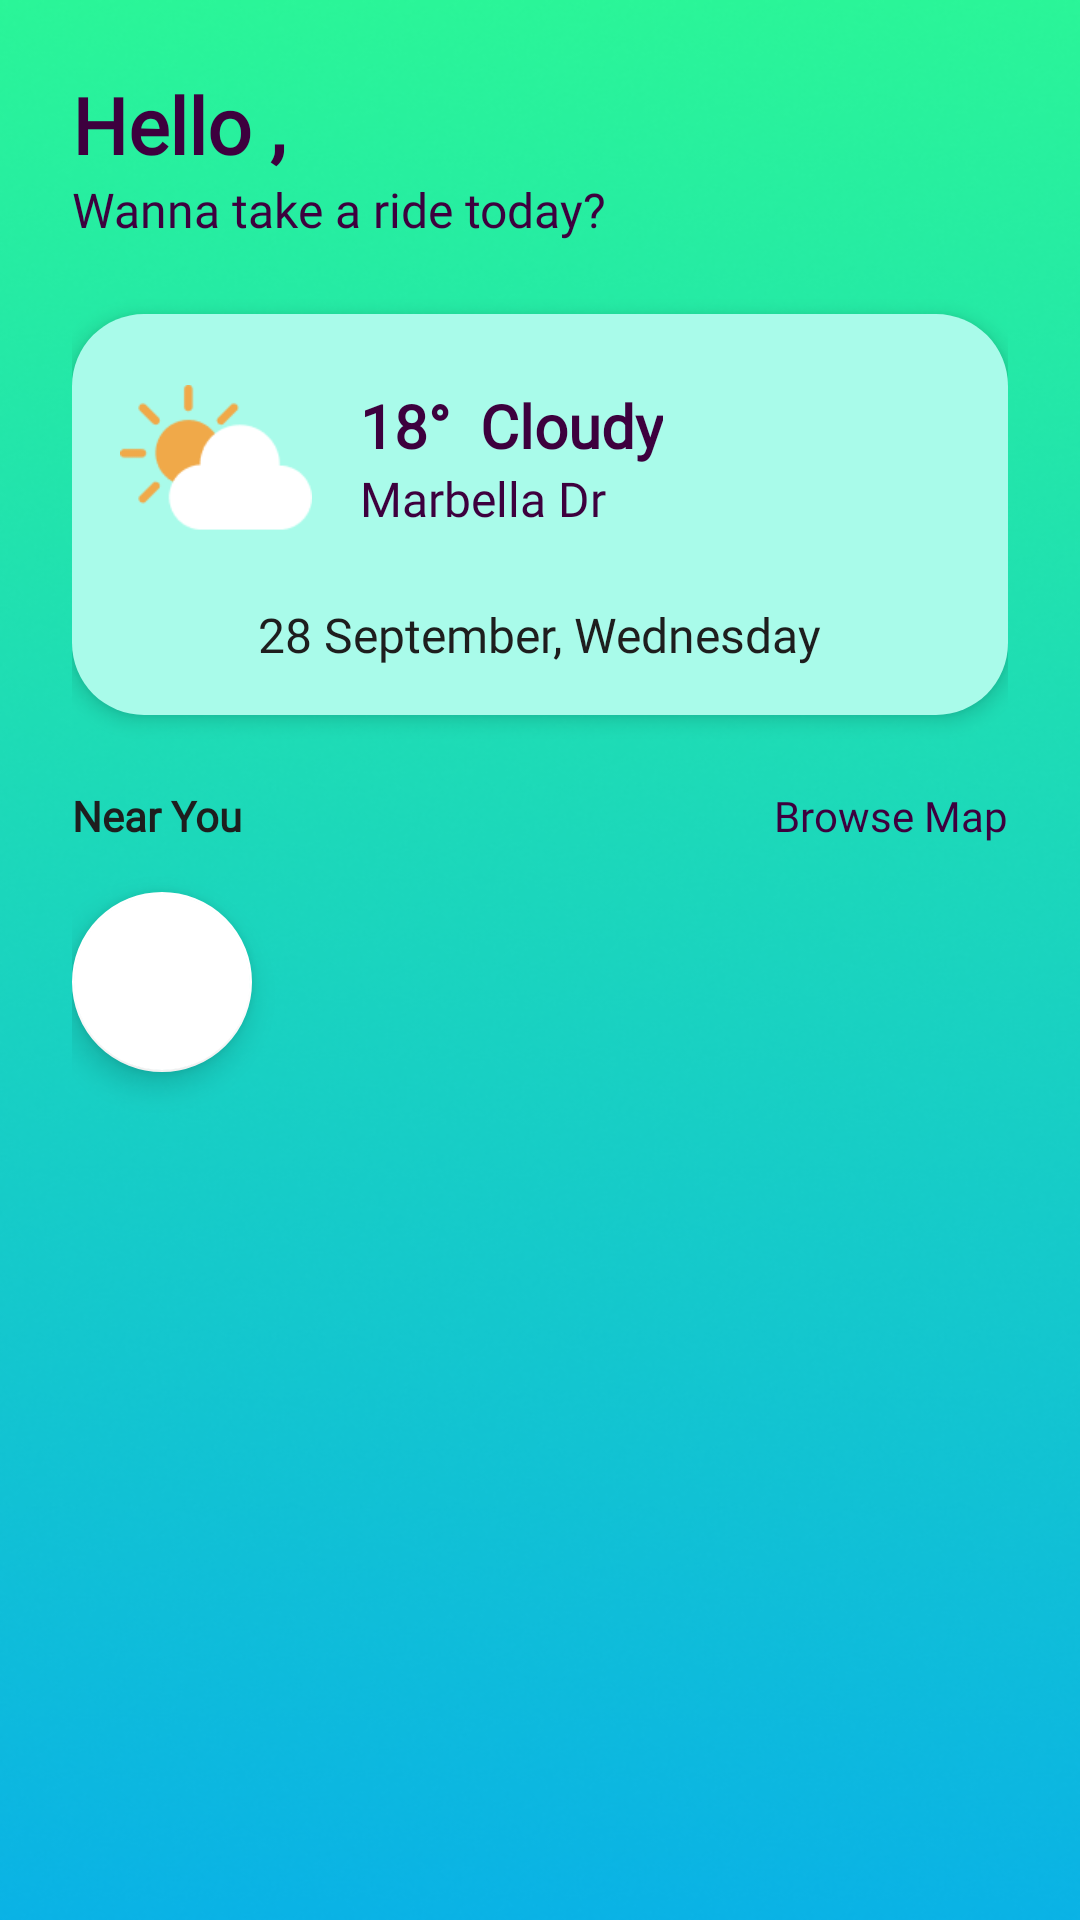

Where to tap for icons on this 1080x1920 app screen, as [x,y]:
cloudly: [216,457]
